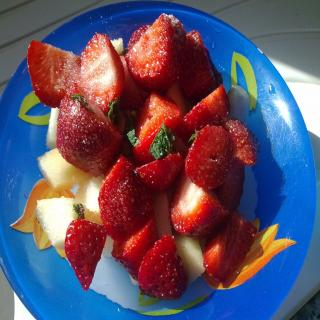Strawberry: (28, 14, 263, 282), (137, 239, 186, 306), (64, 216, 106, 292)
